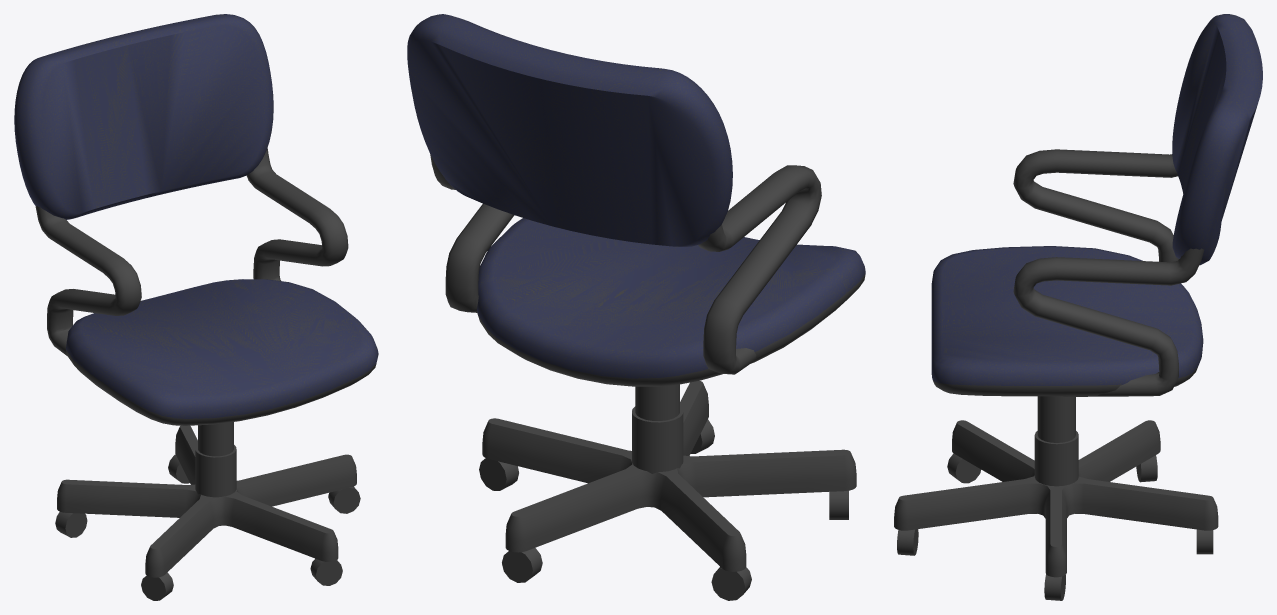
The model's file is chair5.dae.
3 renders of one model, left to right at view 1: azimuth 30°, elevation 25°; view 2: azimuth 150°, elevation 25°; view 3: azimuth 270°, elevation 25°, orthographic. The views are drawn at different scales.
Visible parts, largest first — view 1: ZChair (×12); view 2: ZChair (×11); view 3: ZChair (×11).
Part boxes in pixels (left/top/right/bottom): ZChair (×12): left=14, top=14, right=378, bottom=600; ZChair (×11): left=407, top=14, right=865, bottom=600; ZChair (×11): left=894, top=14, right=1262, bottom=600.
Size of the model in its own units: 5256 by 5911 by 8336.
